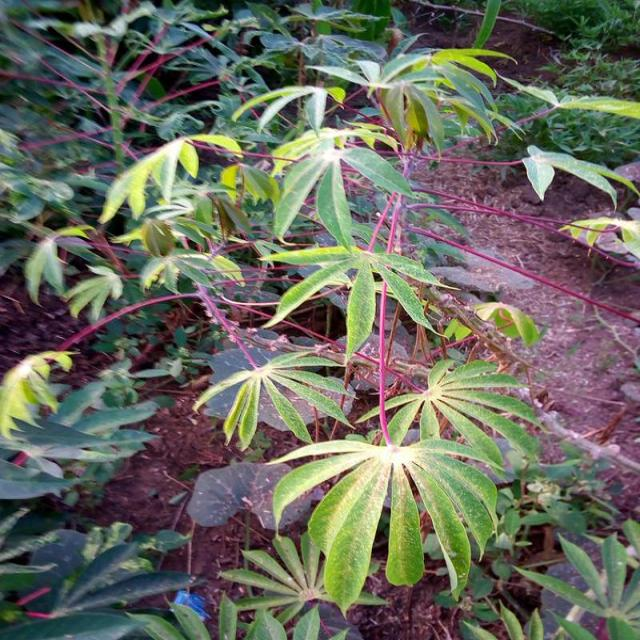cassava leaf: (269, 408, 500, 616), (193, 343, 354, 450)
